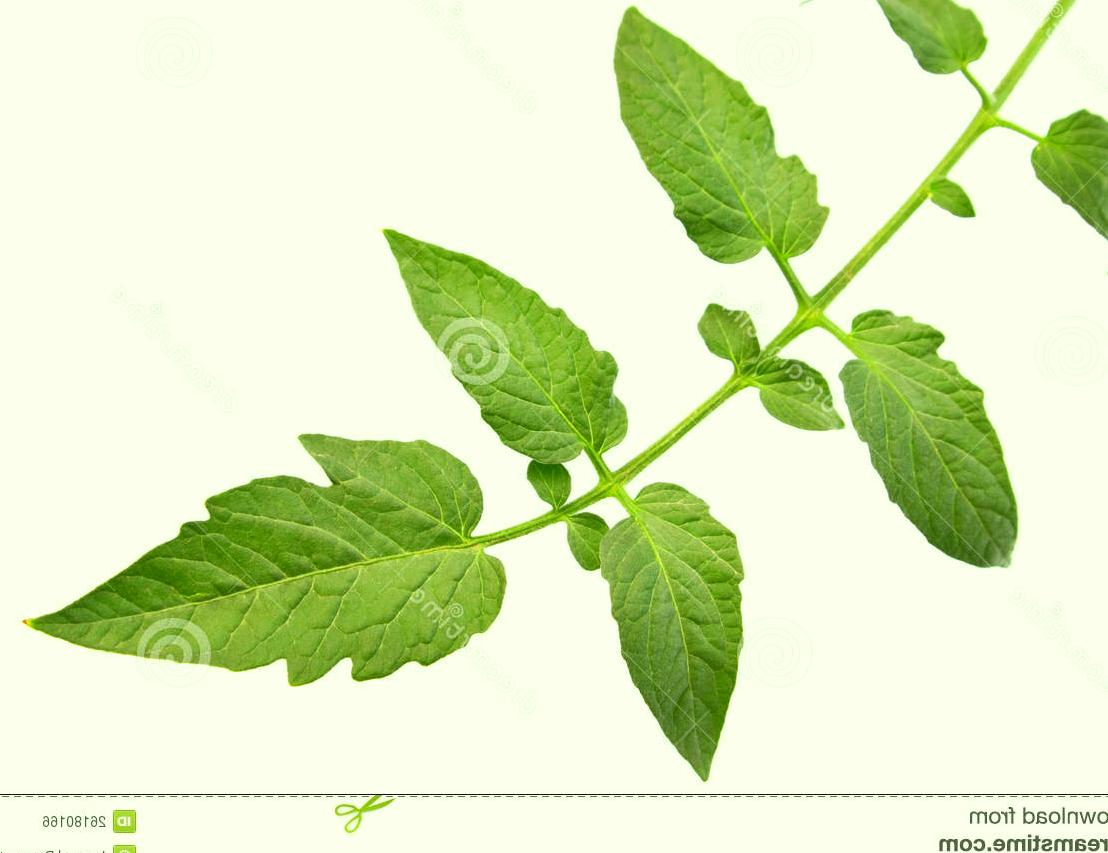Tomato leaf: (7, 408, 493, 756), (562, 0, 884, 296), (518, 463, 809, 785), (822, 295, 1088, 591), (350, 213, 621, 486), (804, 0, 991, 107), (1013, 104, 1108, 294)
